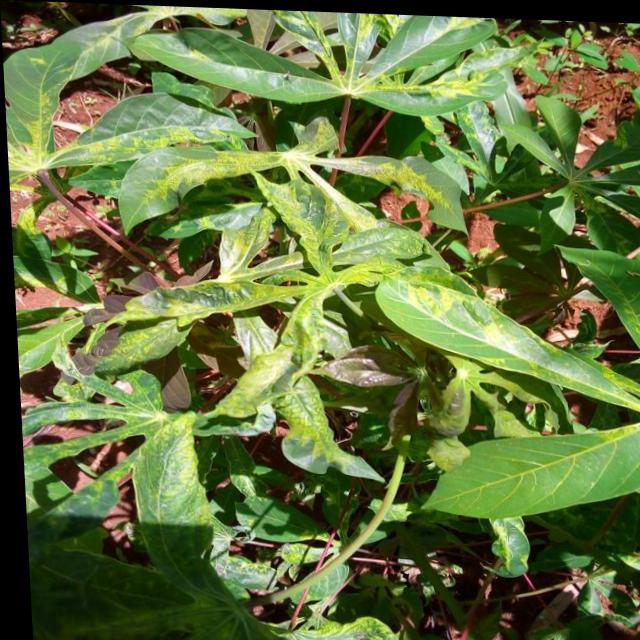Mosaico: (51, 354, 429, 554), (83, 104, 471, 239), (164, 0, 519, 138), (200, 179, 403, 396), (17, 0, 181, 206)
